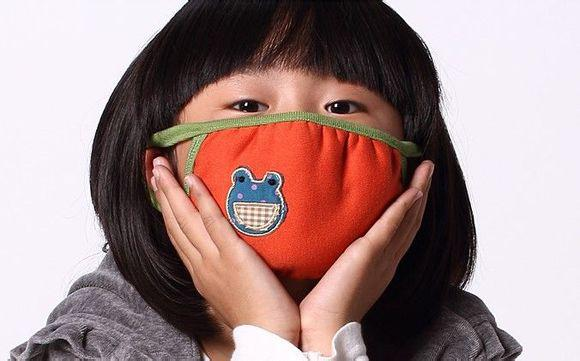OK: (184, 51, 407, 274)
